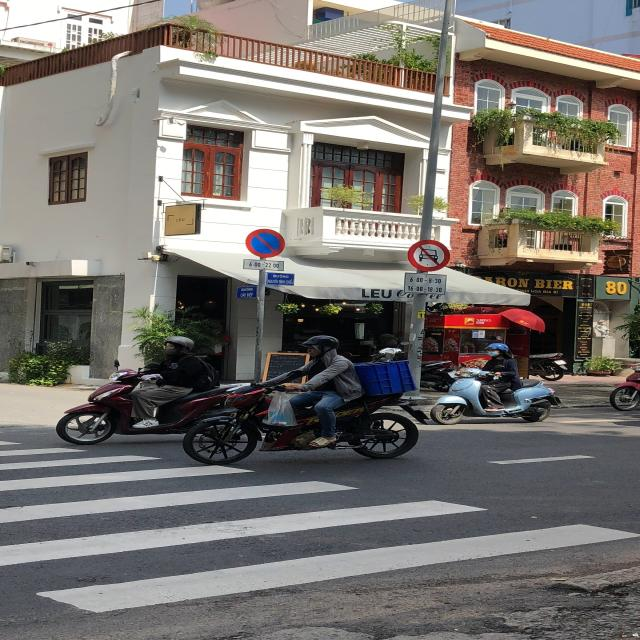Bien bao cam do xe: (239, 223, 294, 258)
Bien bao cam xe oto: (406, 236, 456, 274)
